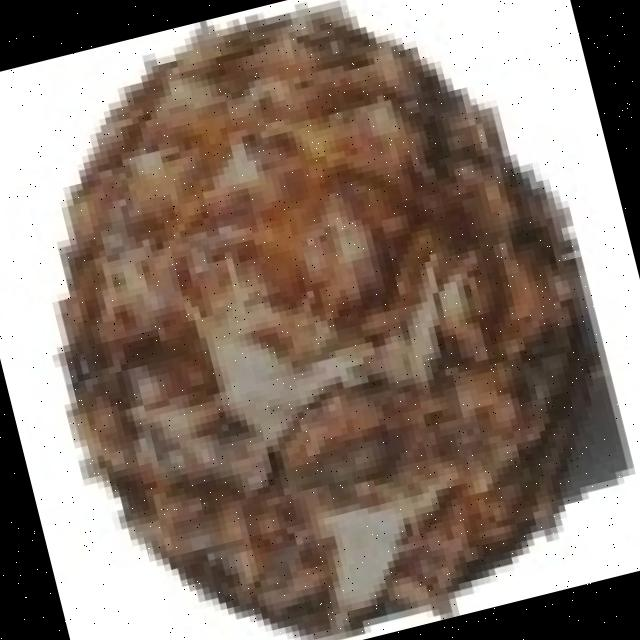pineapple: (50, 10, 573, 629)
